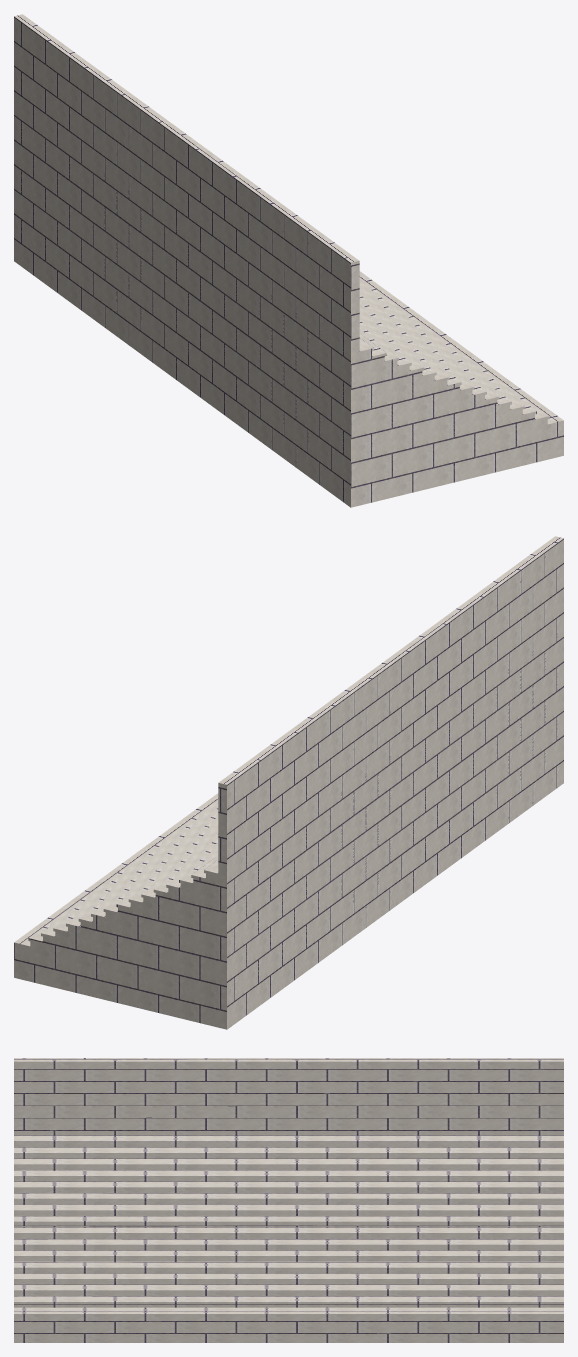
The model's file is Bleachers.fbx.
The picture shows the model from 3 angles, top to bottom: view 1: azimuth 30°, elevation 25°; view 2: azimuth 150°, elevation 25°; view 3: azimuth 270°, elevation 25°; orthographic projection. The views are drawn at different scales.
Parts seen in each view (by area): view 1: Cube.012; view 2: Cube.012; view 3: Cube.012.
Part boxes in pixels (x1,y1,x2,y2): Cube.012: [14, 14, 563, 507]; Cube.012: [14, 536, 563, 1029]; Cube.012: [14, 1058, 563, 1342].
Size of the model in its own units: 85.28 by 93.62 by 233.
